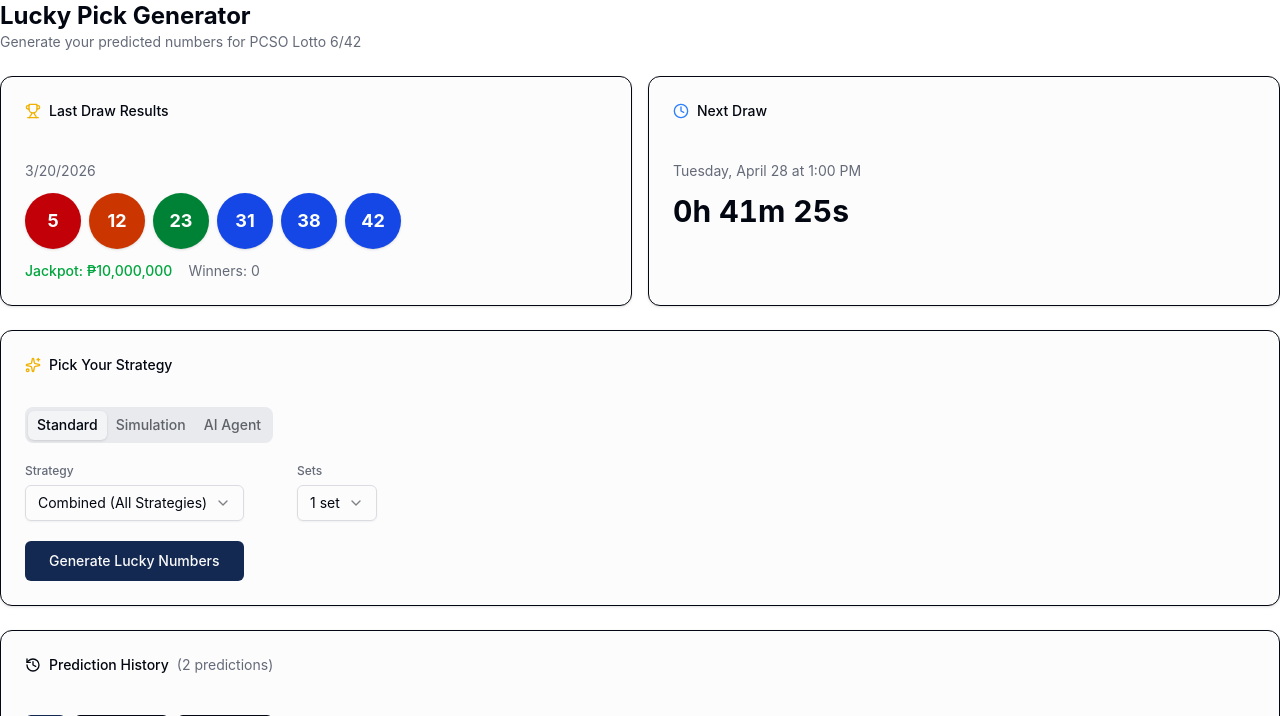
LuckyPickPage › AI Agent tab shows model and veteran combobox, not personality select
This screenshot has width=1280, height=716.
Click the tab "AI Agent". click: (232, 425)
box: [195,410,270,440]
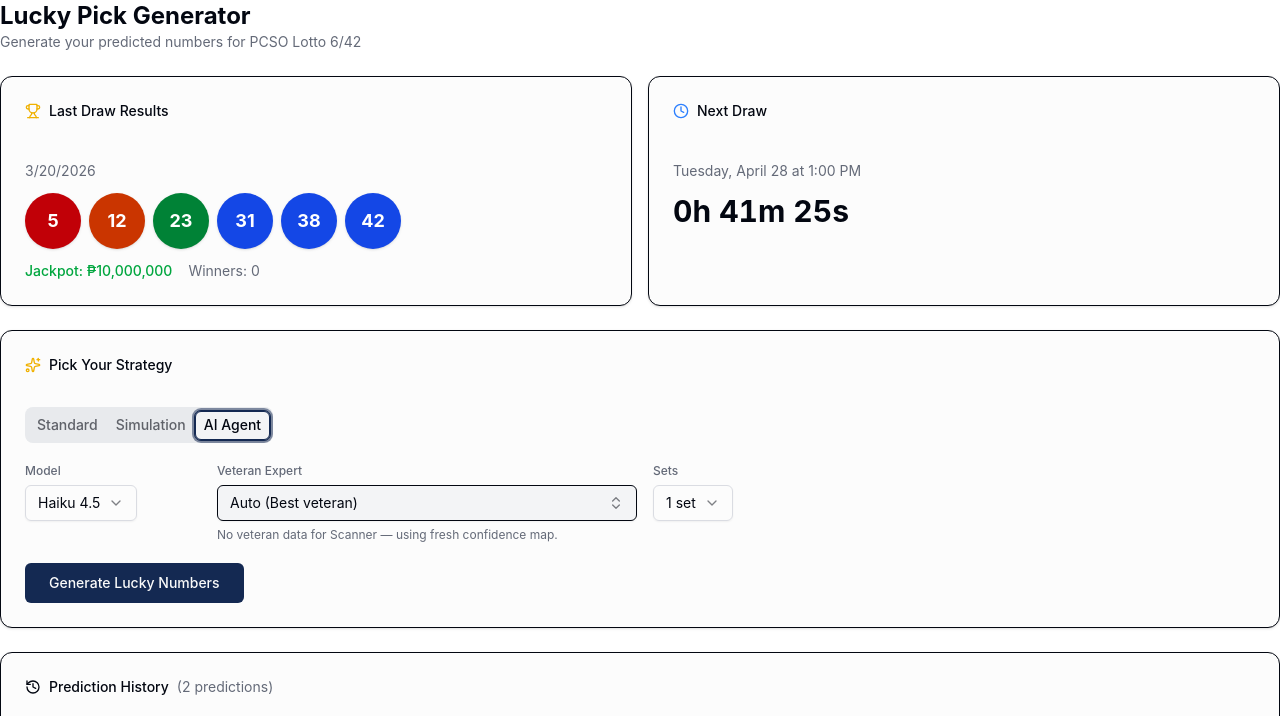
Now the text "Model" is shown, box [25,463,61,478]
Now the text "Veteran Expert" is shown, box [217,463,302,478]
